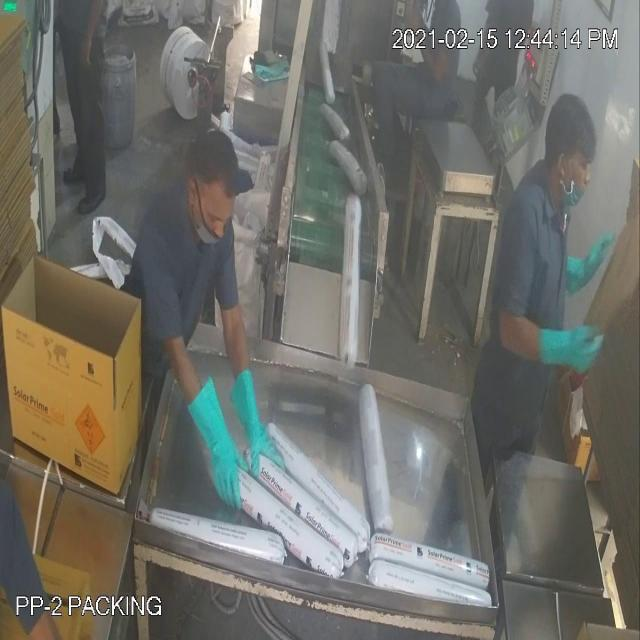Gloves: (42, 42, 590, 444)
